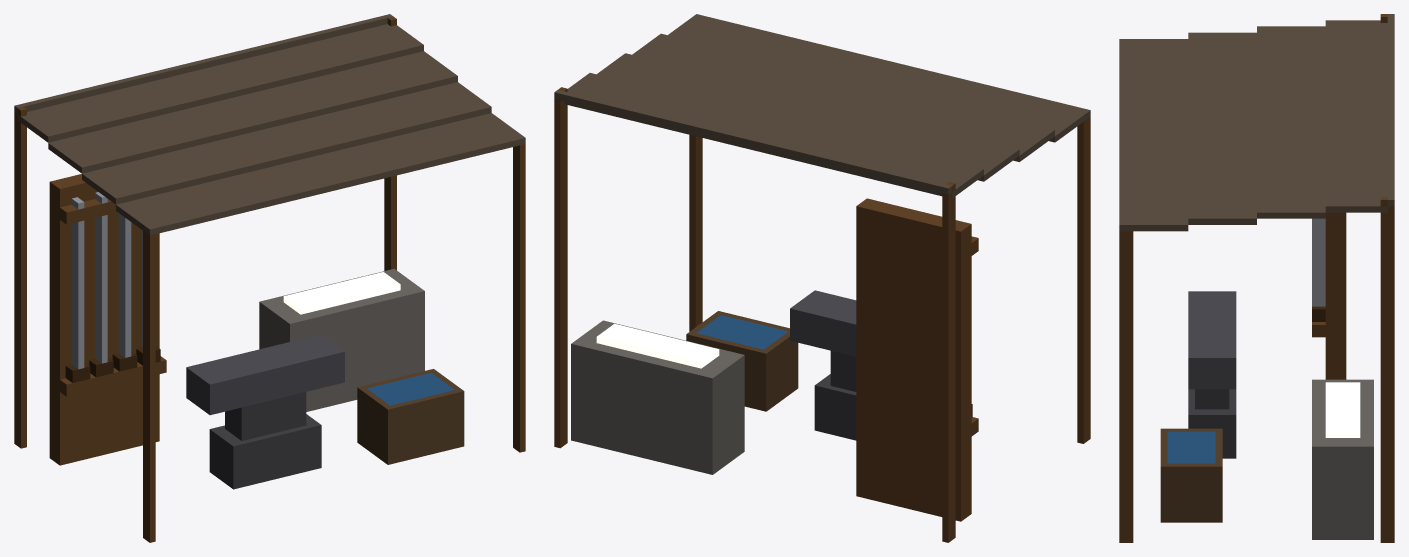
File: stall_smith.glb
3 views of the same model, side by side, from view 1: azimuth 30°, elevation 25°; view 2: azimuth 150°, elevation 25°; view 3: azimuth 270°, elevation 25° (orthographic). The views are drawn at different scales.
Visible parts, largest first — view 1: stall_smith; view 2: stall_smith; view 3: stall_smith.
Boxes of the visible parts, bbox=[...] form: stall_smith: bbox=[14, 14, 525, 542]; stall_smith: bbox=[554, 14, 1090, 542]; stall_smith: bbox=[1119, 14, 1394, 542].
Bounding box in the file's own units: 3.2 × 2.75 × 2.
